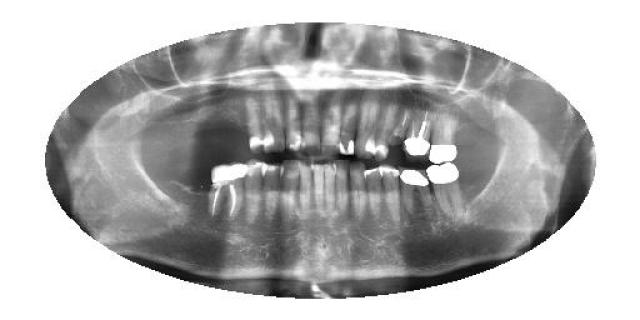Cavity: (388, 106, 414, 149)
Fillings: (426, 162, 465, 218), (399, 165, 435, 216), (428, 116, 458, 164)
Implant: (208, 160, 246, 220), (404, 111, 431, 160)
